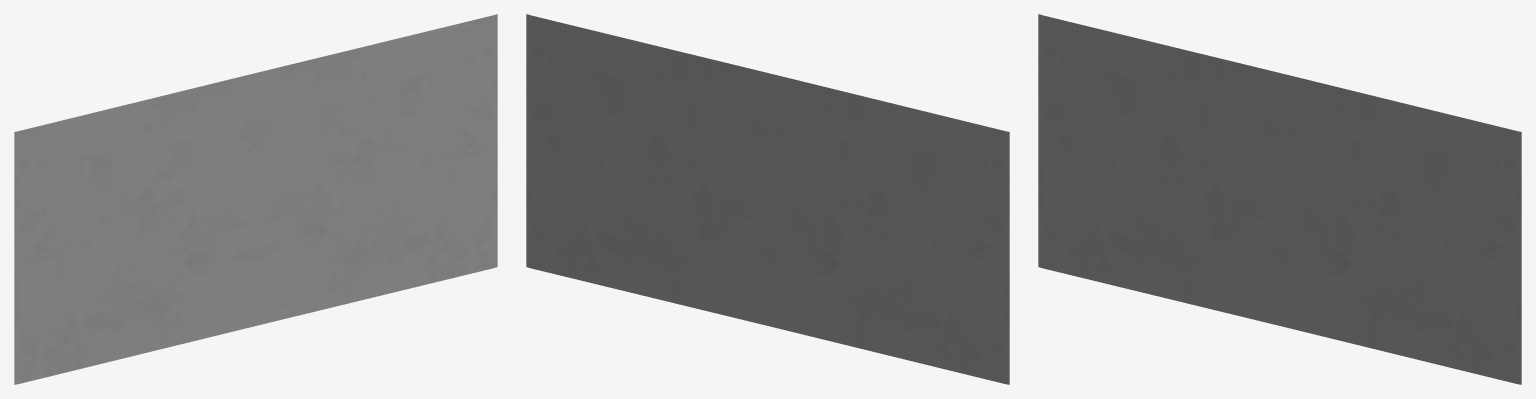
Rendered from sf_low_wall_white.glb.
The picture shows the model from 3 angles, left to right: view 1: azimuth 30°, elevation 25°; view 2: azimuth 150°, elevation 25°; view 3: azimuth 330°, elevation 25°; orthographic projection.
Parts seen in each view (by area): view 1: ShortWall_WhitePlate2_Straight; view 2: ShortWall_WhitePlate2_Straight; view 3: ShortWall_WhitePlate2_Straight.
Boxes of the visible parts, bbox=[...] form: ShortWall_WhitePlate2_Straight: bbox=[14, 14, 497, 384]; ShortWall_WhitePlate2_Straight: bbox=[526, 14, 1009, 384]; ShortWall_WhitePlate2_Straight: bbox=[1038, 14, 1521, 384].
Size of the model in its own units: 4 by 2 by 4.77e-07.
1 material, 1 textured.
